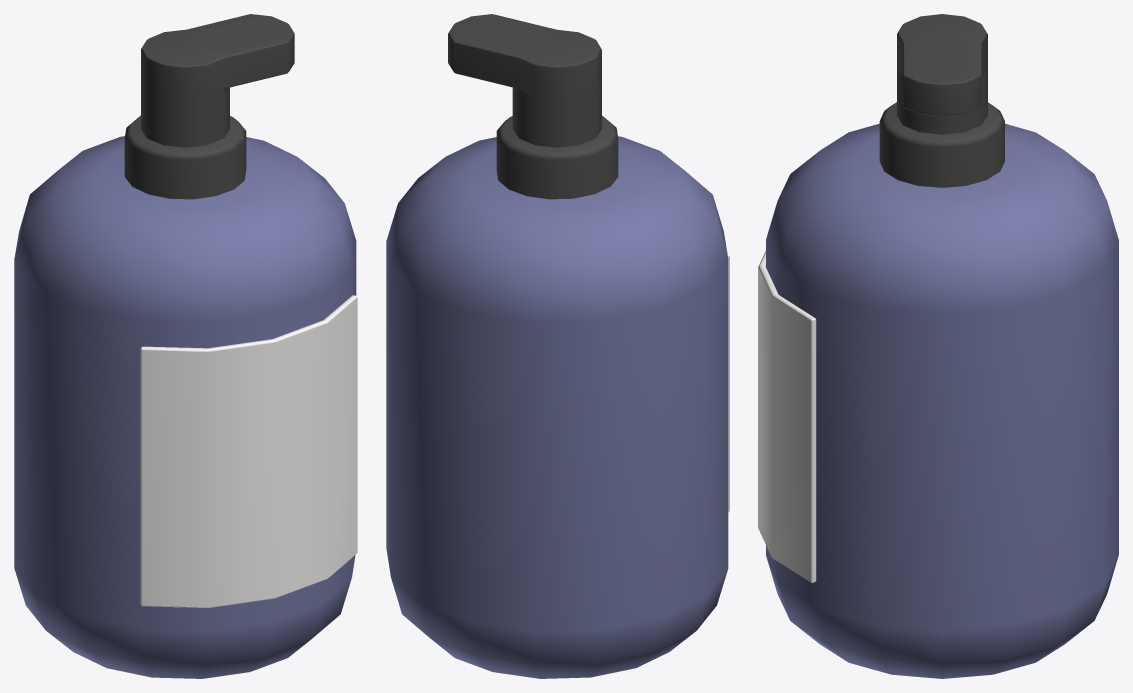
The model's file is Bottle_1.glb.
The picture shows the model from 3 angles, left to right: view 1: azimuth 30°, elevation 25°; view 2: azimuth 150°, elevation 25°; view 3: azimuth 270°, elevation 25°; orthographic projection. The views are drawn at different scales.
Visible parts, largest first — view 1: Bottle_20; view 2: Bottle_20; view 3: Bottle_20.
Part boxes in pixels (x1,y1,x2,y2): Bottle_20: (14, 14, 357, 678); Bottle_20: (386, 14, 729, 678); Bottle_20: (758, 14, 1118, 678).
Bounding box in the file's own units: 0.2031 × 0.3819 × 0.2076.
1 material, 1 textured.
